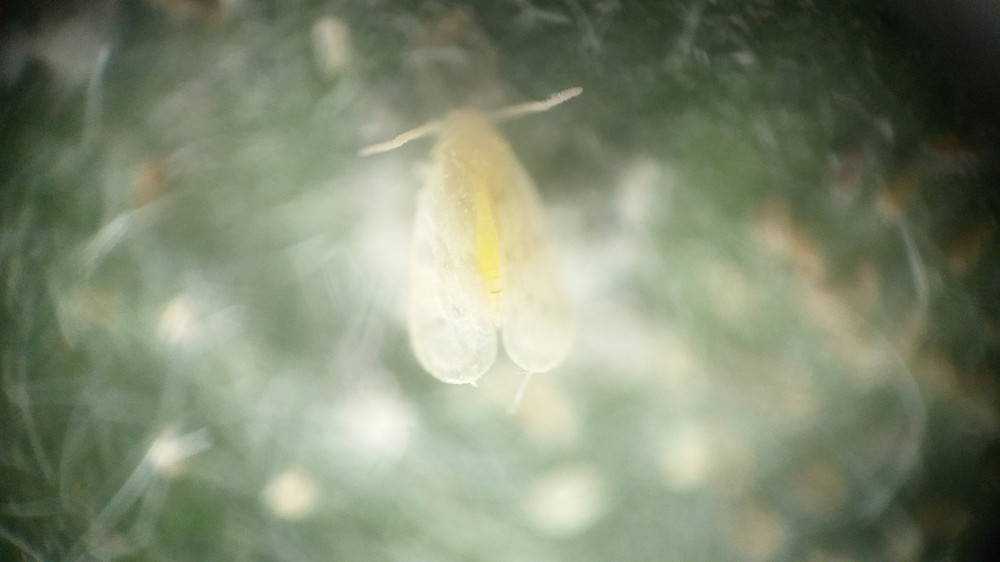Mosca Blanca: (348, 77, 615, 393)
